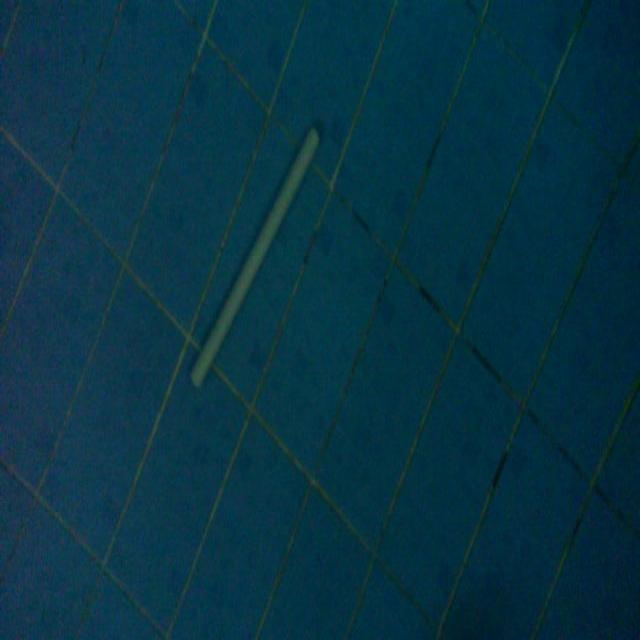Cube: (188, 117, 322, 391)
